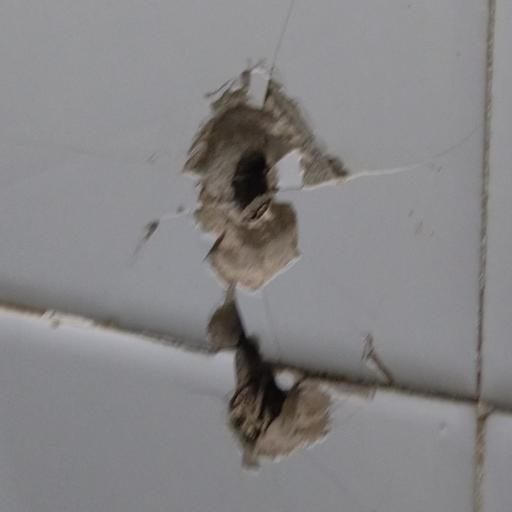spalling: (164, 56, 382, 299), (181, 306, 389, 476)
